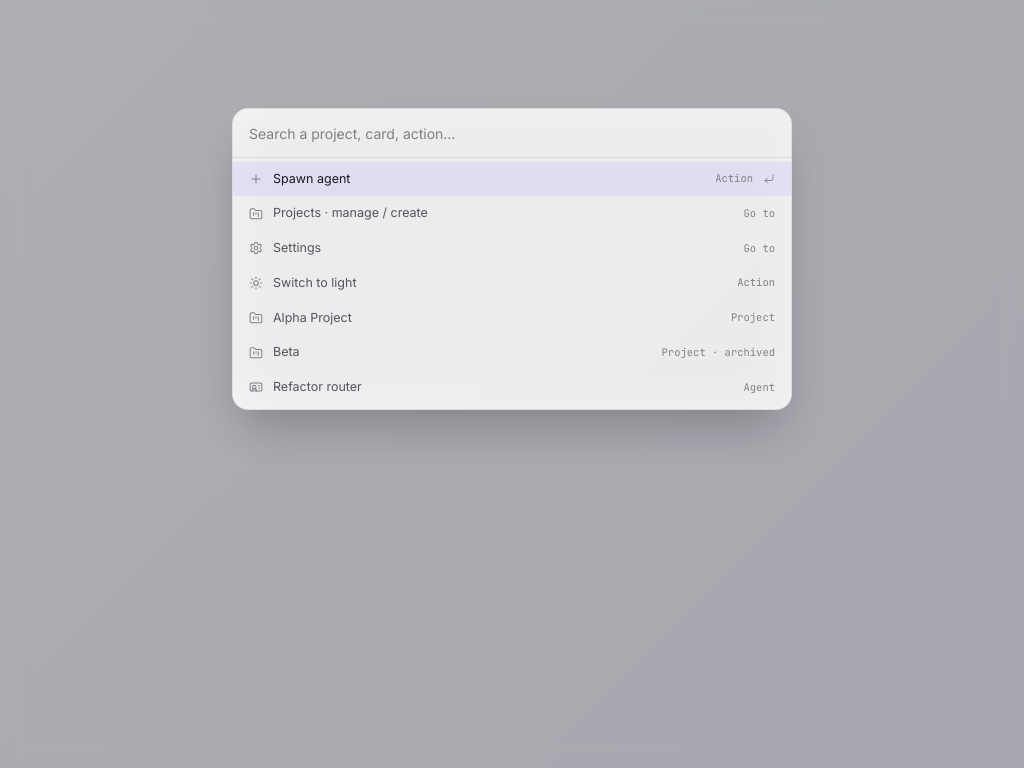
<CommandPalette /> › filters via multi-token AND-match (each whitespace-separated piece must hit)
The image size is (1024, 768).
In the field with placeholder "Search a project, card, action…": x=512, y=133 [249,122,775,144], type "alpha proj"
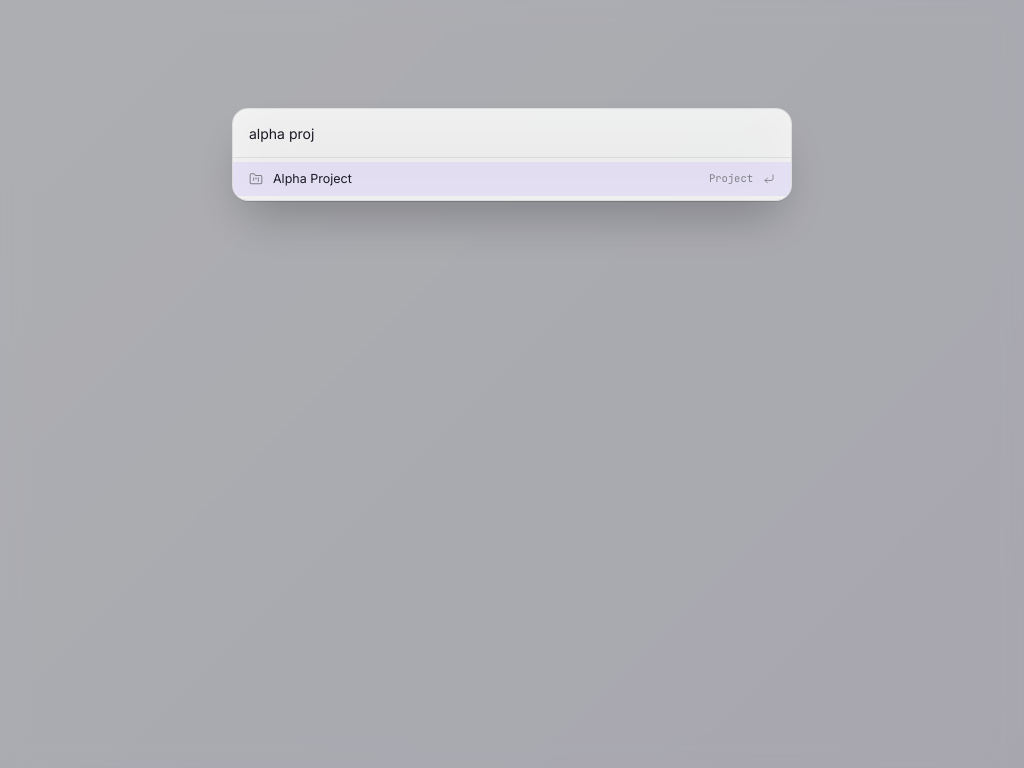
Expected: the text "Alpha Project" is shown, [273,170,352,186]
Expected: the button "Beta" is gone
